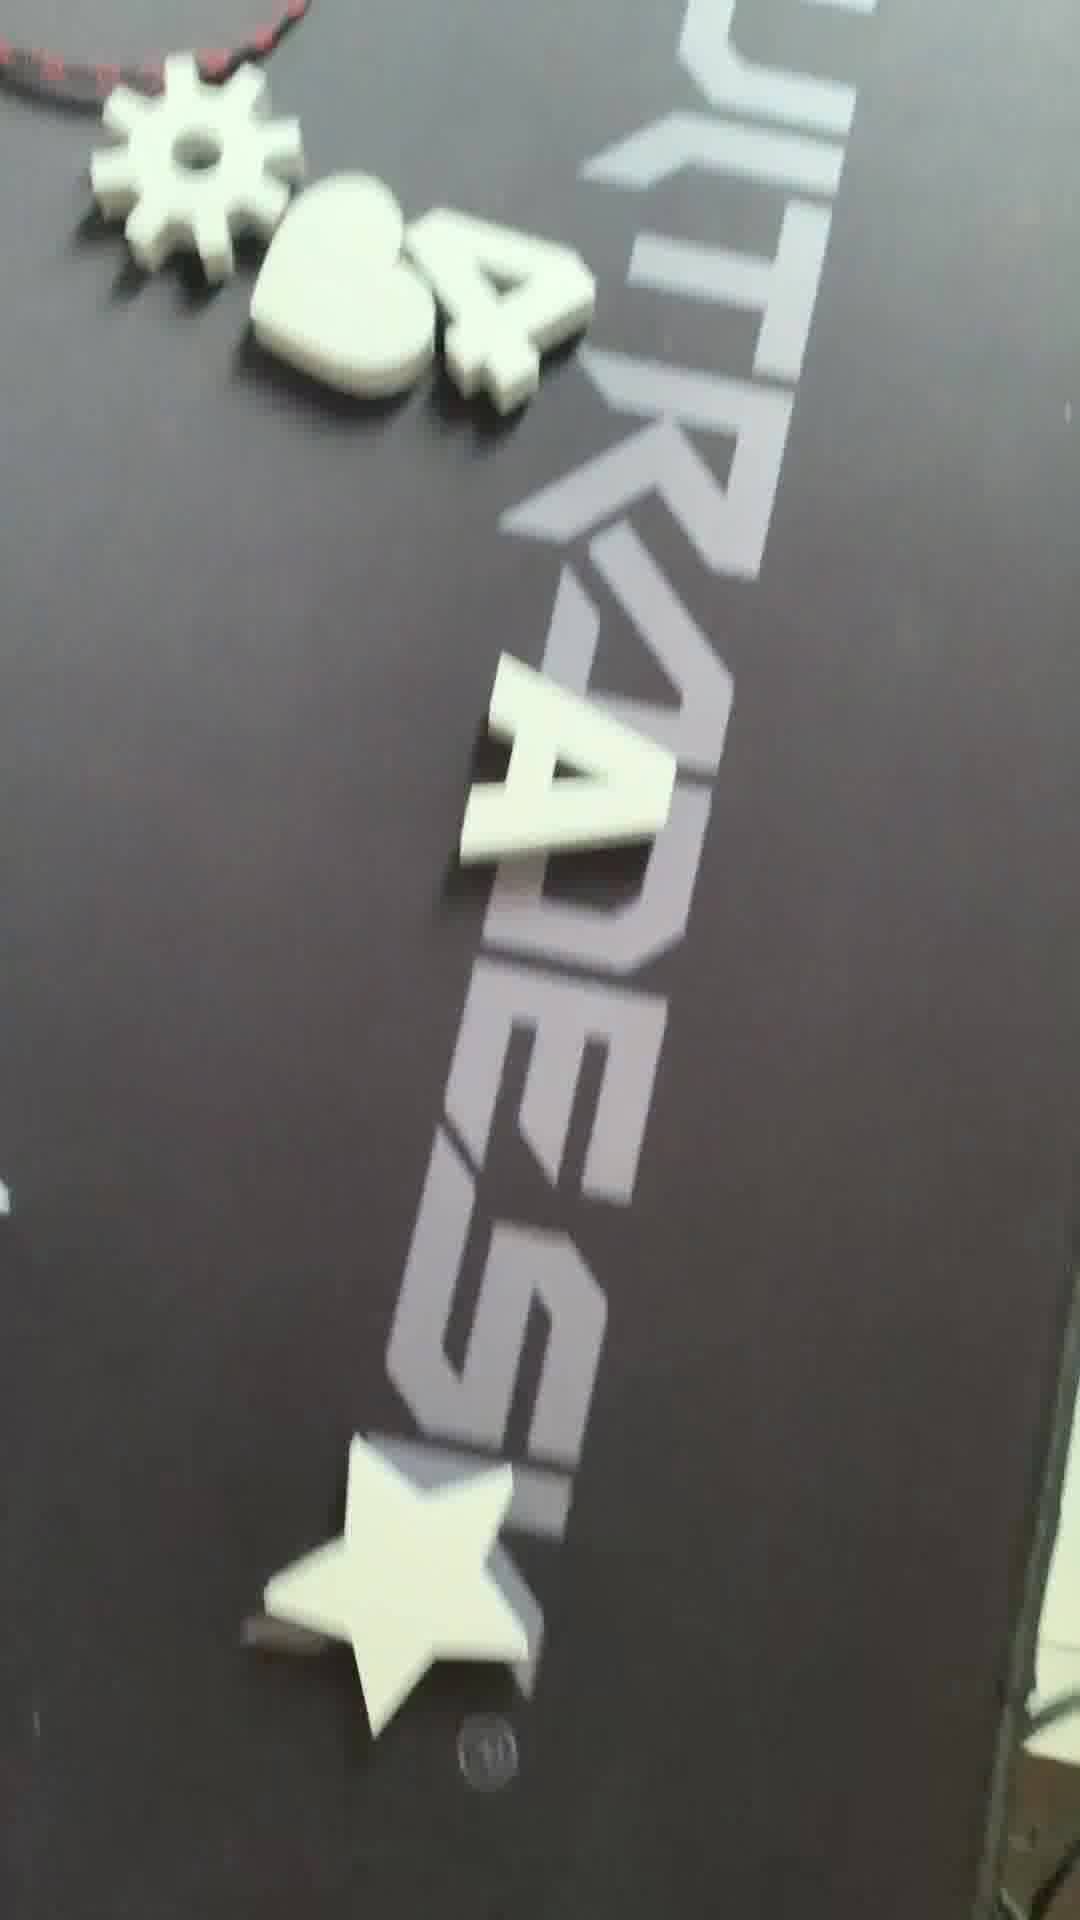Gray A-letter: (448, 647, 684, 881)
Gray four: (421, 214, 597, 400)
Gray gear: (80, 69, 343, 280)
Gray heart: (249, 161, 436, 414)
Gray star: (258, 1436, 537, 1745)
